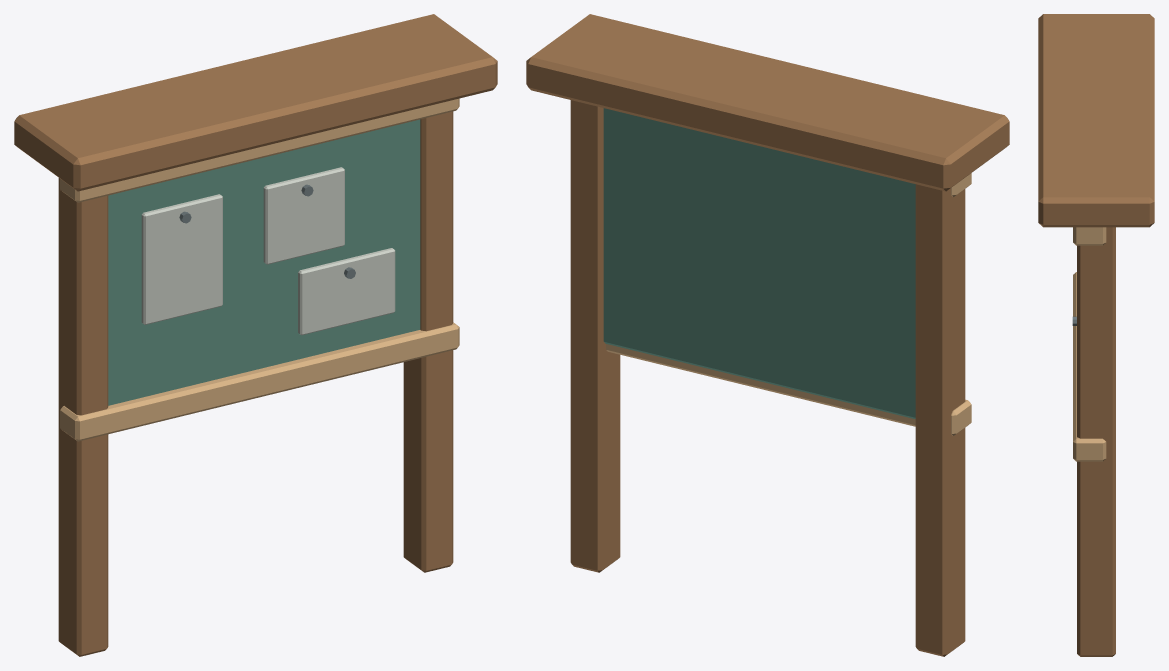
3 views of the same model, side by side, from view 1: azimuth 30°, elevation 25°; view 2: azimuth 150°, elevation 25°; view 3: azimuth 270°, elevation 25° (orthographic). The views are drawn at different scales.
Parts seen in each view (by area): view 1: village-noticeboard-01; view 2: village-noticeboard-01; view 3: village-noticeboard-01.
Part boxes in pixels (x1,y1,x2,y2): village-noticeboard-01: [14, 14, 497, 656]; village-noticeboard-01: [526, 14, 1009, 656]; village-noticeboard-01: [1038, 14, 1154, 656].
Size of the model in its own units: 1.6 by 1.87 by 0.42.
